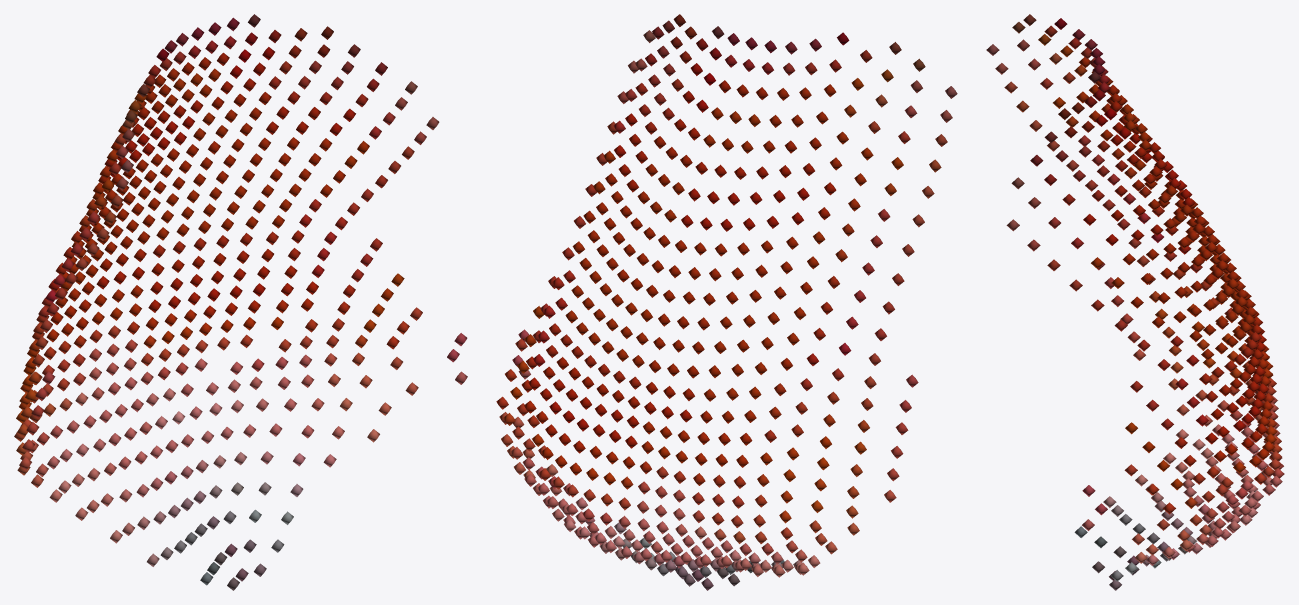
File: red-pepper-vggt-sam.glb
The picture shows the model from 3 angles, left to right: view 1: azimuth 30°, elevation 25°; view 2: azimuth 150°, elevation 25°; view 3: azimuth 270°, elevation 25°; orthographic projection. The views are drawn at different scales.
Bounding box in the file's own units: 0.5726 × 0.7589 × 0.3968.
